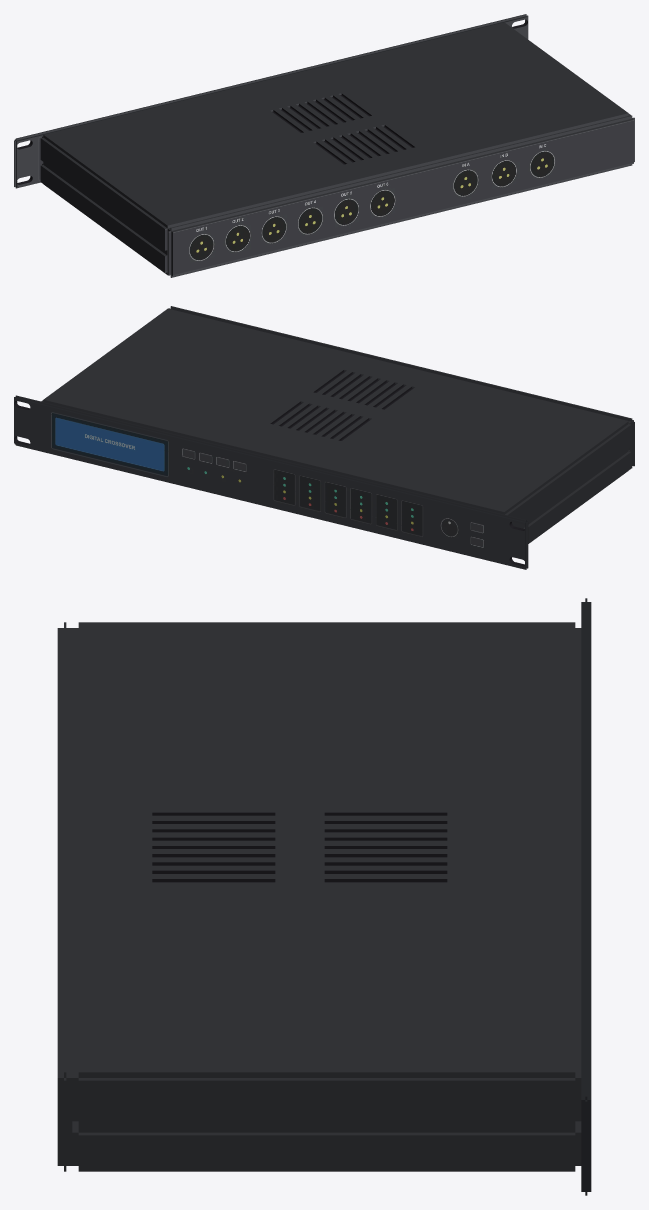
Rendered from behringer-dcx2496.glb.
3 renders of one model, top to bottom at view 1: azimuth 30°, elevation 25°; view 2: azimuth 150°, elevation 25°; view 3: azimuth 270°, elevation 25°, orthographic. The views are drawn at different scales.
Parts seen in each view (by area): view 1: behringer-dcx2496-body; view 2: behringer-dcx2496-body; view 3: behringer-dcx2496-body.
Boxes of the visible parts, bbox=[...] form: behringer-dcx2496-body: bbox=[14, 14, 634, 277]; behringer-dcx2496-body: bbox=[14, 306, 634, 569]; behringer-dcx2496-body: bbox=[57, 598, 591, 1195].
Size of the model in its own units: 0.4826 by 0.0445 by 0.217.
Materials: 1 (1 with a texture image).
